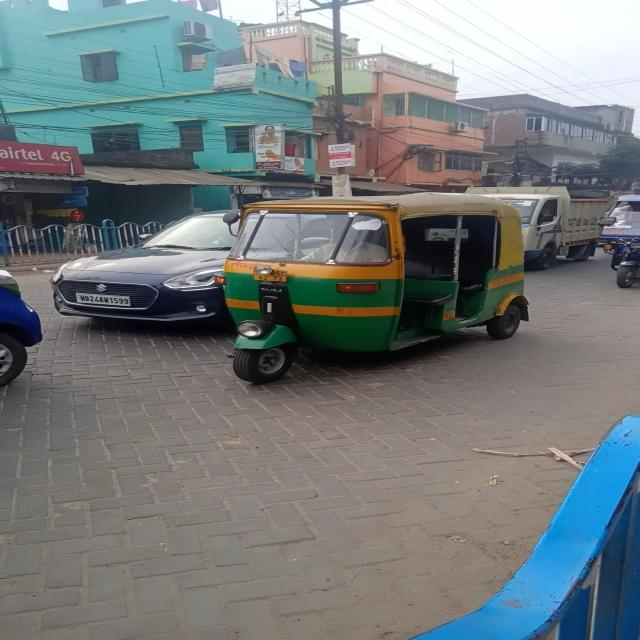Auto: (206, 179, 542, 404)
